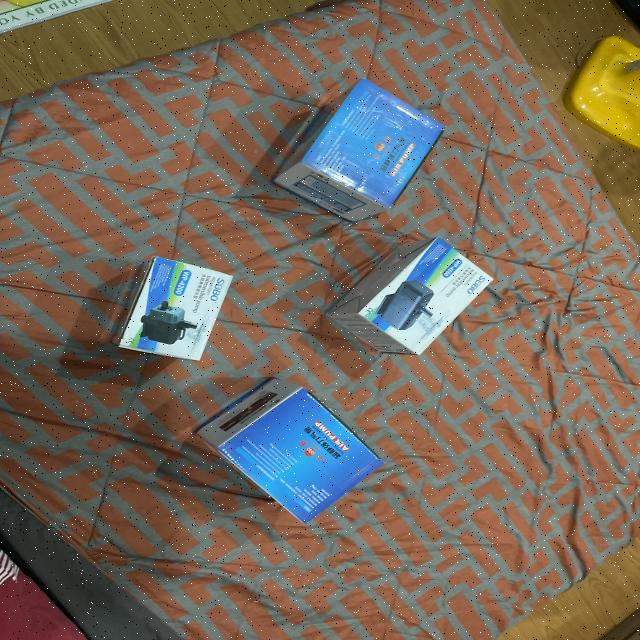SOBO_WP_4200: (320, 232, 500, 362), (108, 243, 242, 370)
YAMANO_LPP_20: (188, 366, 398, 535), (271, 76, 459, 226)
